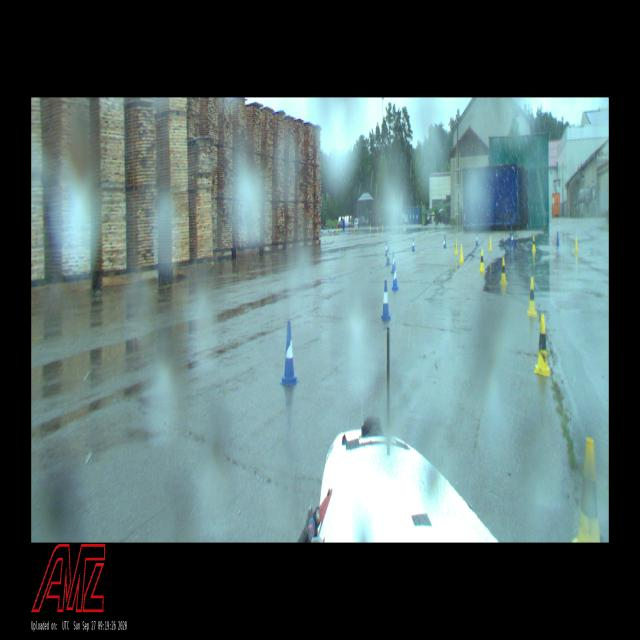blue_cone: (280, 321, 299, 387), (381, 280, 391, 321), (392, 262, 398, 292), (391, 252, 396, 272), (386, 246, 390, 266), (475, 232, 479, 246), (443, 235, 447, 248), (556, 230, 559, 247), (385, 241, 388, 256), (412, 237, 415, 251), (511, 232, 514, 245)
orange_cone: (332, 228, 334, 236), (351, 228, 353, 235)
yellow_cone: (567, 440, 608, 542), (534, 314, 550, 376), (527, 278, 537, 317), (500, 258, 507, 284), (479, 249, 484, 270), (459, 244, 464, 262), (574, 237, 579, 253), (454, 240, 458, 256), (532, 236, 536, 251), (488, 237, 492, 251)
